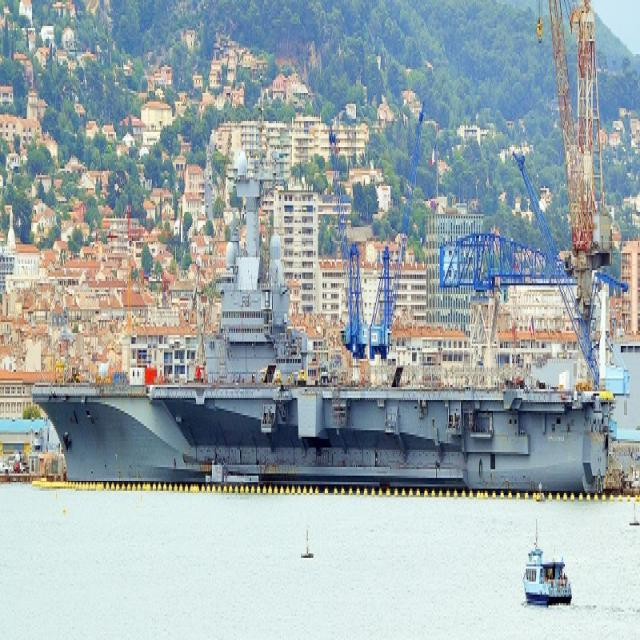Portanaves: (28, 140, 618, 486)
